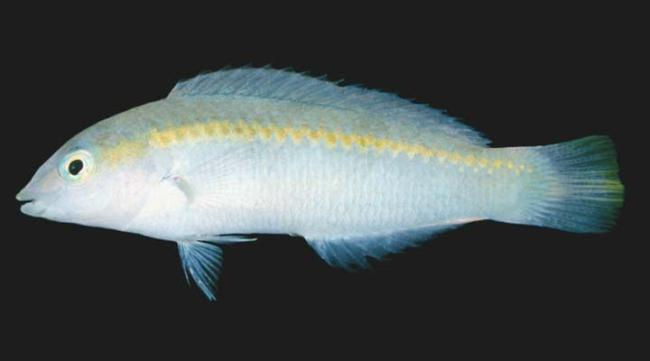fish: (15, 62, 625, 303)
